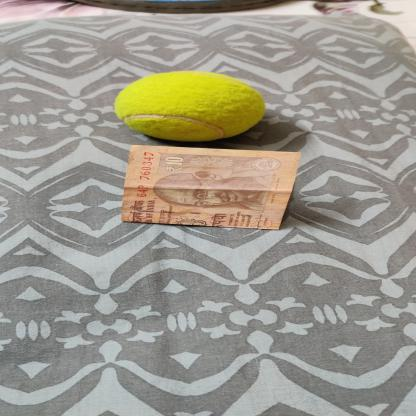Old10Front: (119, 144, 306, 230)
